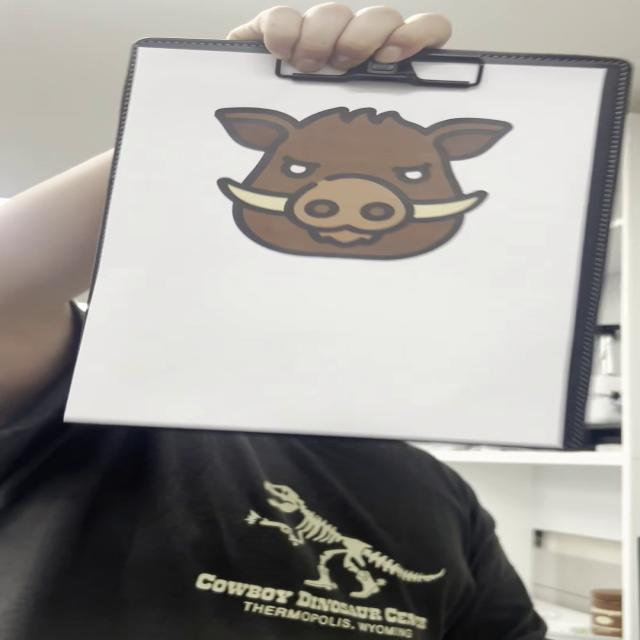animal: (213, 105, 518, 264)
